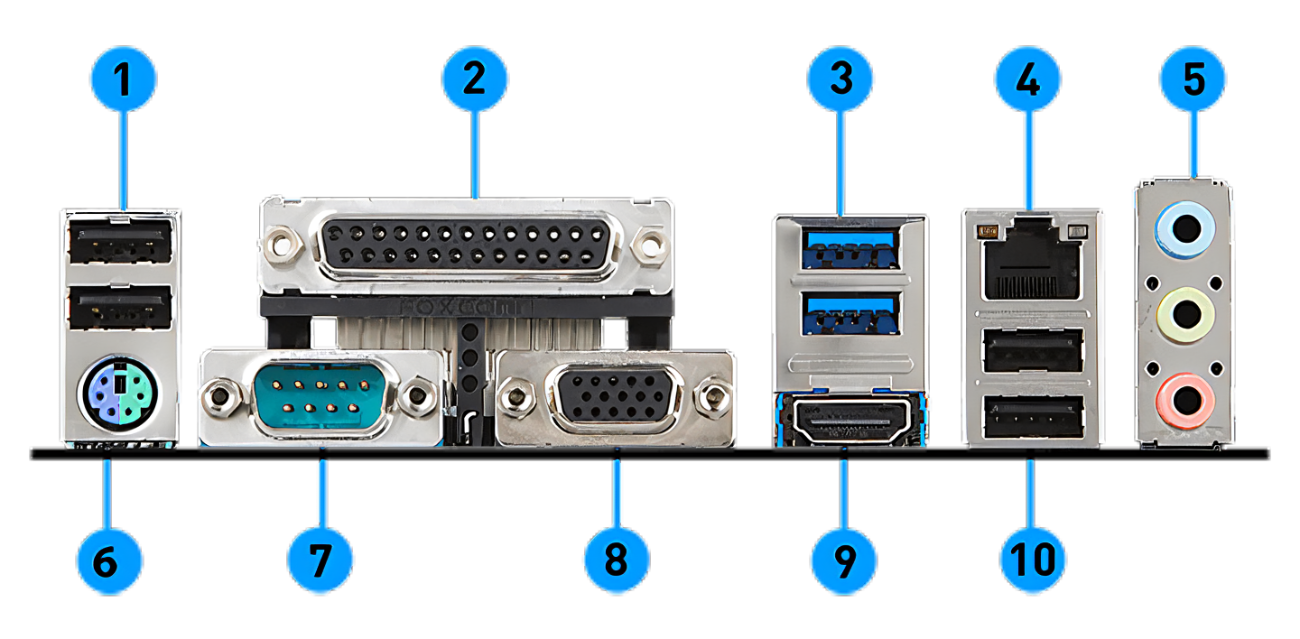Ethernet: (963, 213, 1098, 303)
HDMI: (776, 394, 921, 449)
USB: (973, 322, 1092, 375), (973, 389, 1092, 440), (794, 225, 908, 277), (803, 288, 909, 339)
VGA: (558, 362, 679, 431)
